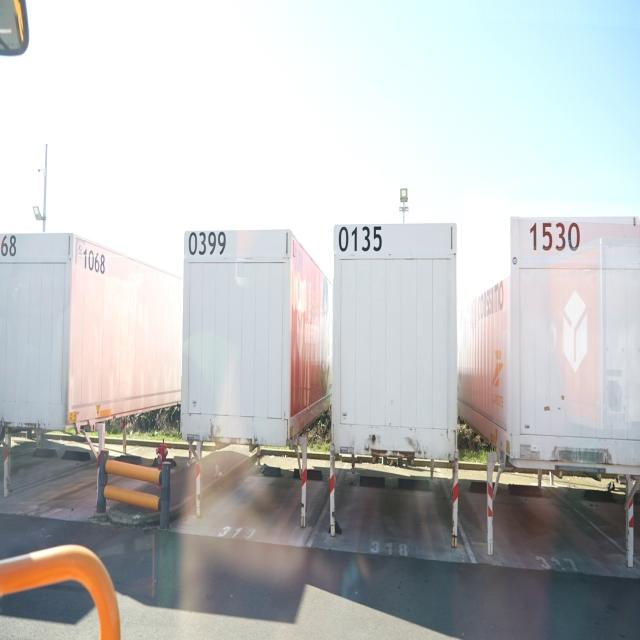Code: (526, 218, 586, 262), (336, 223, 382, 260), (185, 228, 226, 261), (79, 242, 107, 281)
